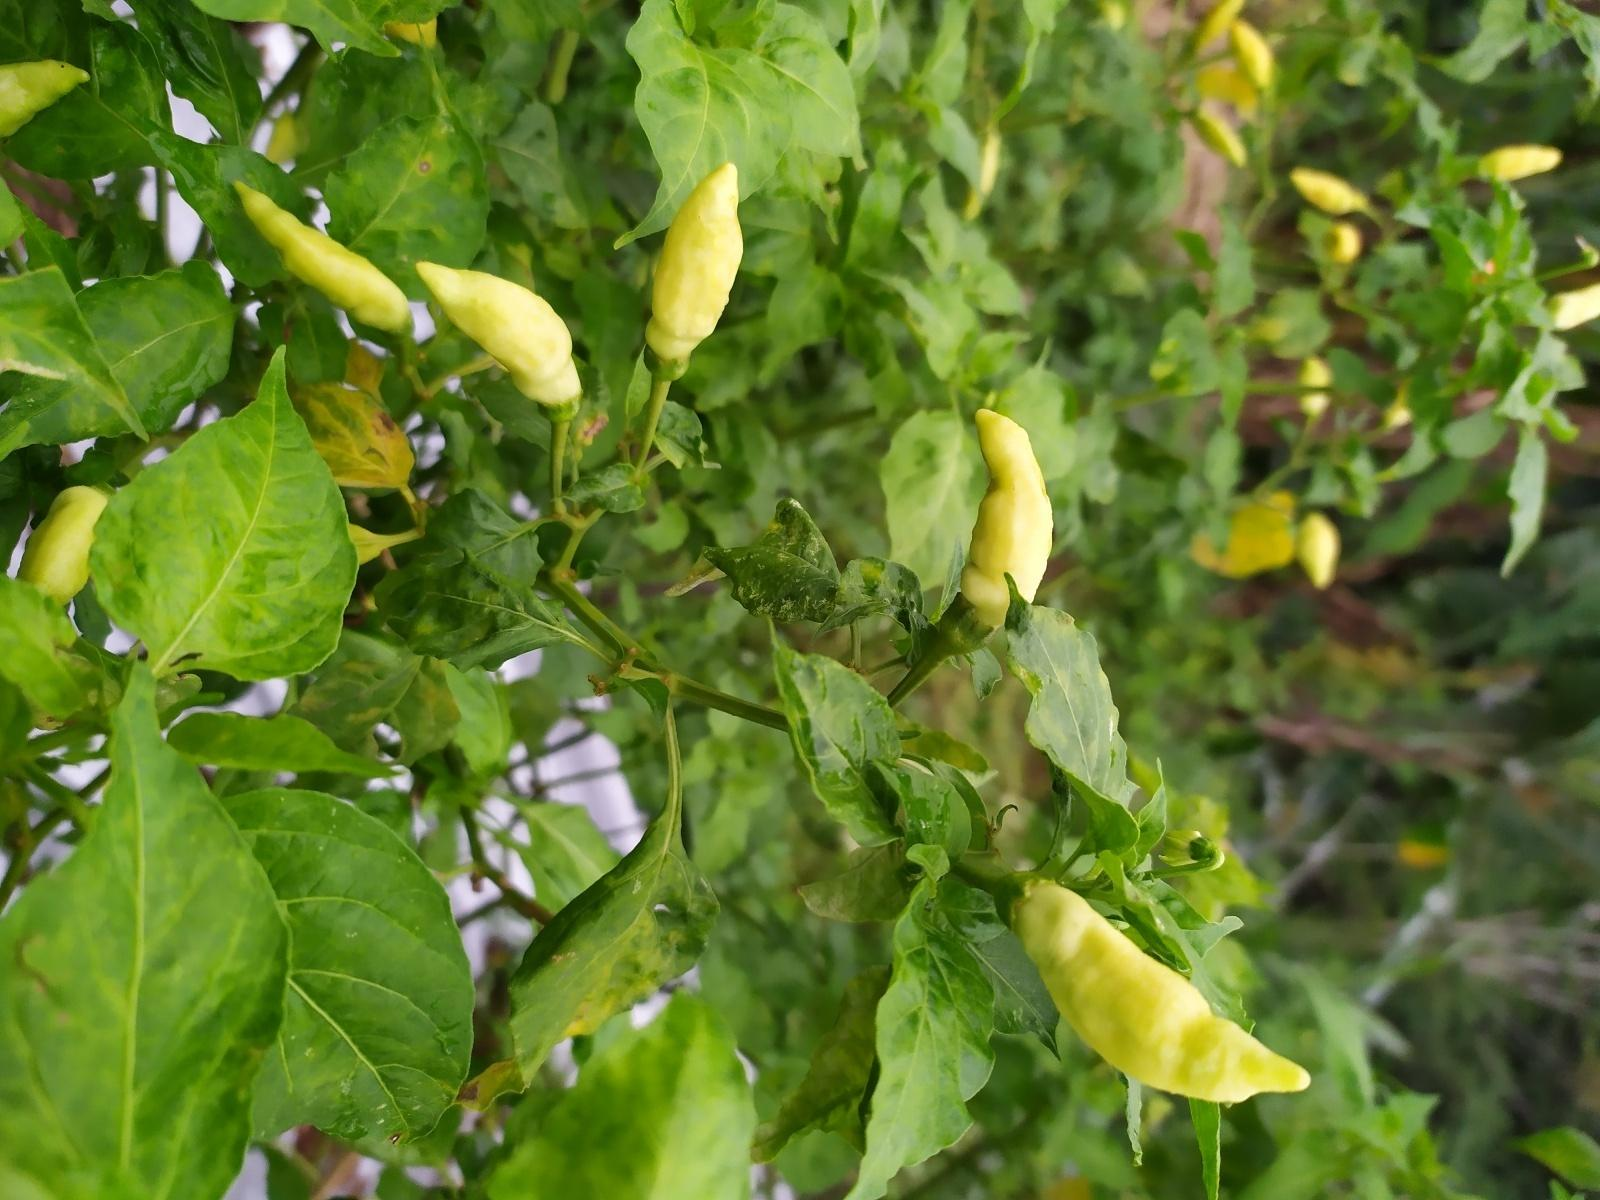cabai_normal: (1014, 880, 1310, 1102), (233, 182, 409, 332), (414, 258, 582, 413), (959, 408, 1054, 632), (643, 161, 745, 366), (20, 488, 105, 611)
